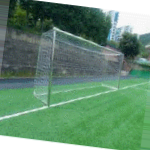goals: (33, 24, 125, 108)
